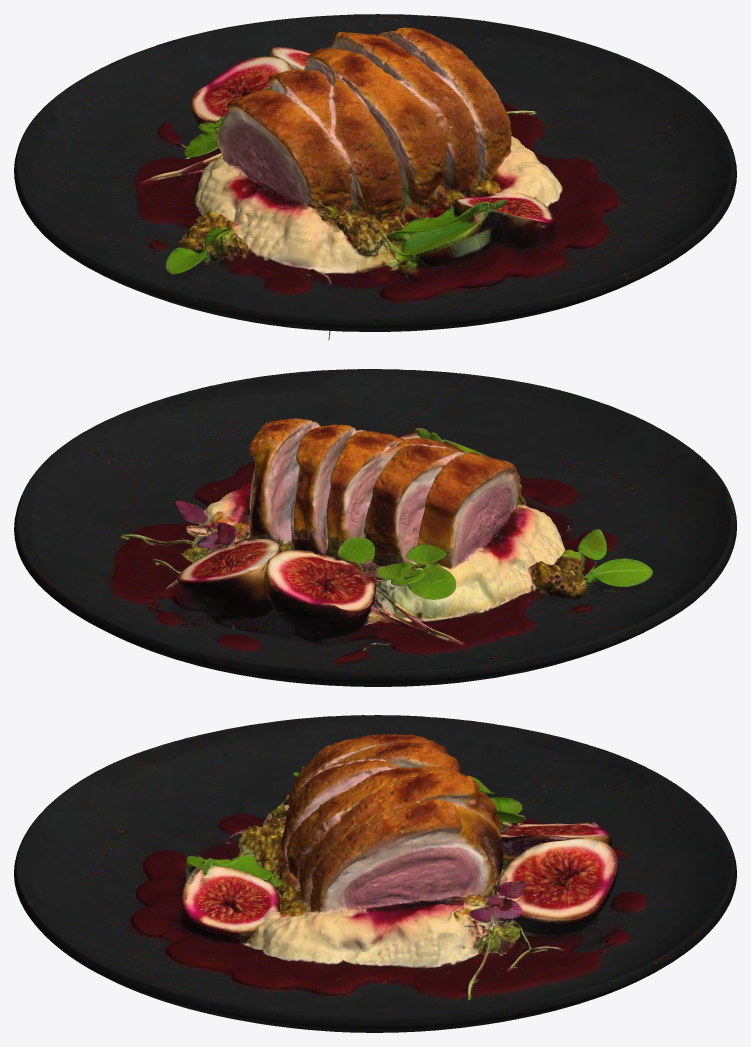
File: canette-aux-figues-ar-lite-meshy.glb
3 renders of one model, top to bottom at view 1: azimuth 30°, elevation 25°; view 2: azimuth 150°, elevation 25°; view 3: azimuth 270°, elevation 25°, orthographic.
Parts seen in each view (by area): view 1: node0; view 2: node0; view 3: node0.
Part boxes in pixels (bbox=[...]): node0: bbox=[14, 14, 736, 340]; node0: bbox=[14, 369, 736, 686]; node0: bbox=[14, 715, 736, 1032].
Bounding box in the file's own units: 0.22 × 0.0587 × 0.22.
Materials: 1 (1 with a texture image).
